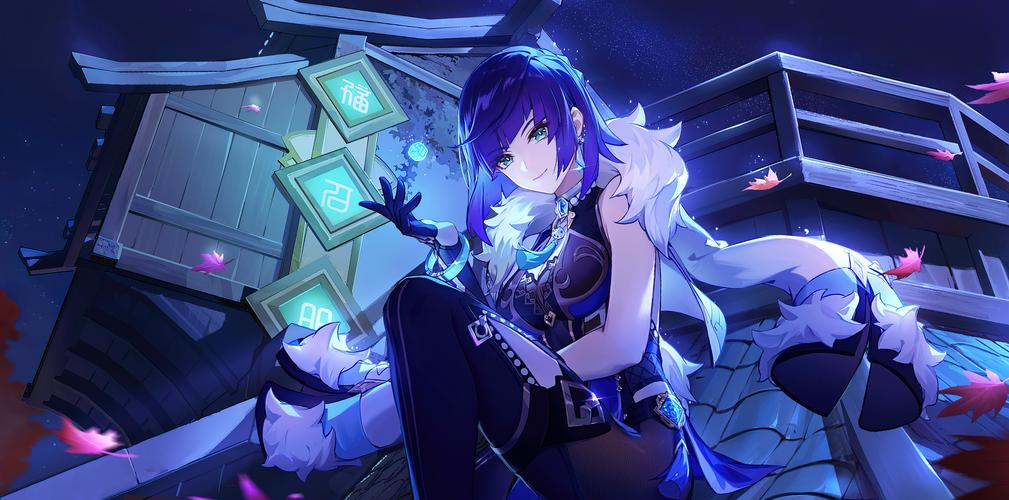夜兰: (359, 45, 691, 500)
